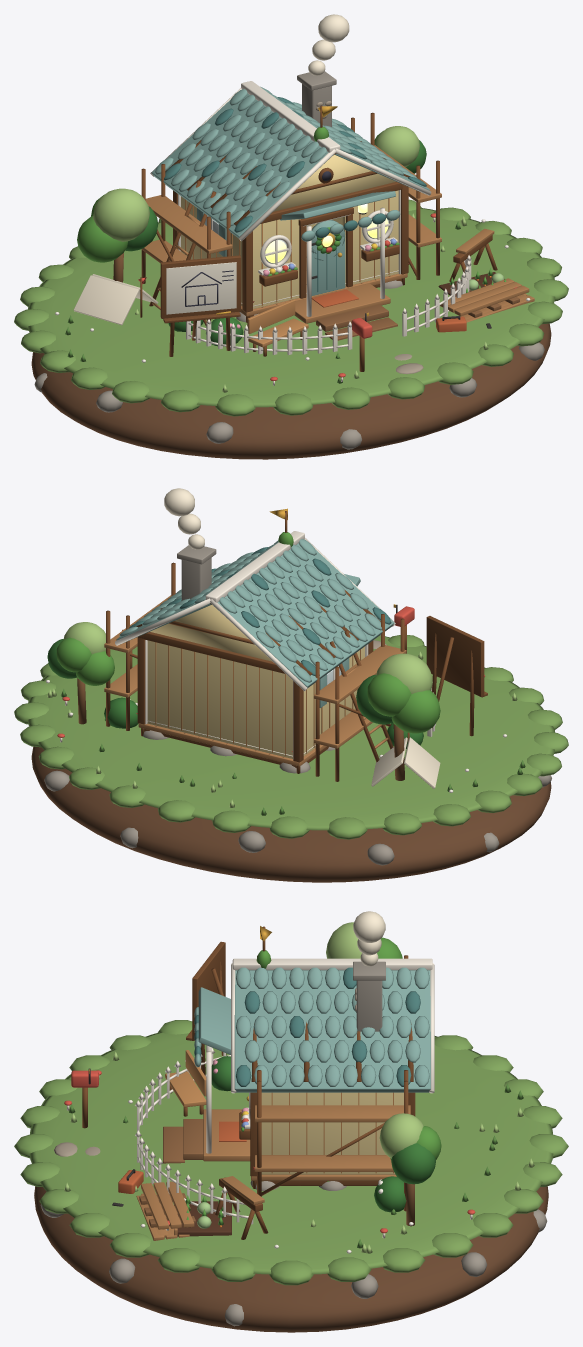
File: daily-house.glb
The picture shows the model from 3 angles, top to bottom: view 1: azimuth 30°, elevation 25°; view 2: azimuth 150°, elevation 25°; view 3: azimuth 270°, elevation 25°; orthographic projection. The views are drawn at different scales.
Parts seen in each view (by area): view 1: plot, hs_roof_left, site_done, hs_wall_front, hs_porch, site_frame, site_walls, hs_fence, site_start, site_roof, hs_finale, hs_trim (+12 smaller); view 2: plot, hs_wall_back, hs_roof_left, site_done, site_walls, site_frame, hs_trim, site_roof, hs_wall_left, hs_roof_right, hs_posts, hs_chimney (+7 smaller); view 3: plot, hs_roof_right, site_done, hs_wall_right, hs_porch, site_roof, hs_garden, site_frame, hs_trim, site_start, hs_fence, hs_chimney (+5 smaller).
Part boxes in pixels (x1,y1,x2,y2): plot: [14, 199, 568, 459]; hs_roof_left: [151, 88, 333, 237]; site_done: [77, 126, 426, 350]; hs_wall_front: [253, 154, 398, 308]; hs_porch: [280, 191, 400, 340]; site_frame: [73, 112, 519, 356]; site_walls: [140, 115, 534, 356]; hs_fence: [186, 255, 471, 355]; site_start: [140, 232, 529, 356]; site_roof: [140, 114, 441, 355]; hs_finale: [265, 14, 388, 307]; hs_trim: [150, 81, 431, 241]; plot: [14, 635, 568, 882]; hs_wall_back: [147, 604, 292, 758]; hs_roof_left: [213, 539, 394, 687]; site_done: [47, 622, 487, 780]; site_walls: [104, 567, 487, 781]; site_frame: [104, 562, 483, 788]; hs_trim: [115, 531, 395, 691]; site_roof: [105, 564, 487, 762]; hs_wall_left: [293, 644, 368, 759]; hs_roof_right: [116, 540, 278, 644]; hs_posts: [137, 637, 373, 762]; hs_chimney: [177, 545, 216, 600]; plot: [14, 1020, 568, 1332]; hs_roof_right: [234, 967, 430, 1092]; site_done: [165, 922, 441, 1226]; hs_wall_right: [261, 1092, 403, 1174]; hs_porch: [163, 987, 250, 1163]; site_roof: [171, 963, 410, 1210]; hs_garden: [54, 1056, 406, 1237]; site_frame: [112, 942, 410, 1239]; hs_trim: [231, 958, 434, 1093]; site_start: [141, 942, 267, 1239]; hs_fence: [135, 1047, 253, 1224]; hs_chimney: [353, 961, 385, 1031].
Bounding box in the file's own units: 7.01 × 4.5 × 6.05.
